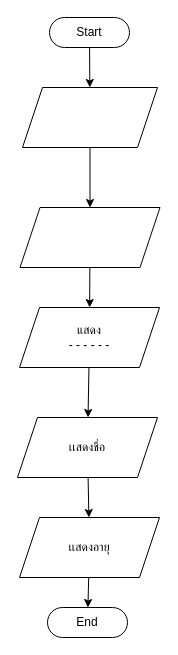
This 178x655 diagram has some shape labels left out. Here are the shapes that lost their labels. From the top down, the box of each, then its label:
(22, 86, 158, 148): ใส่ชื่อ
(19, 206, 160, 268): ใส่อายุ
